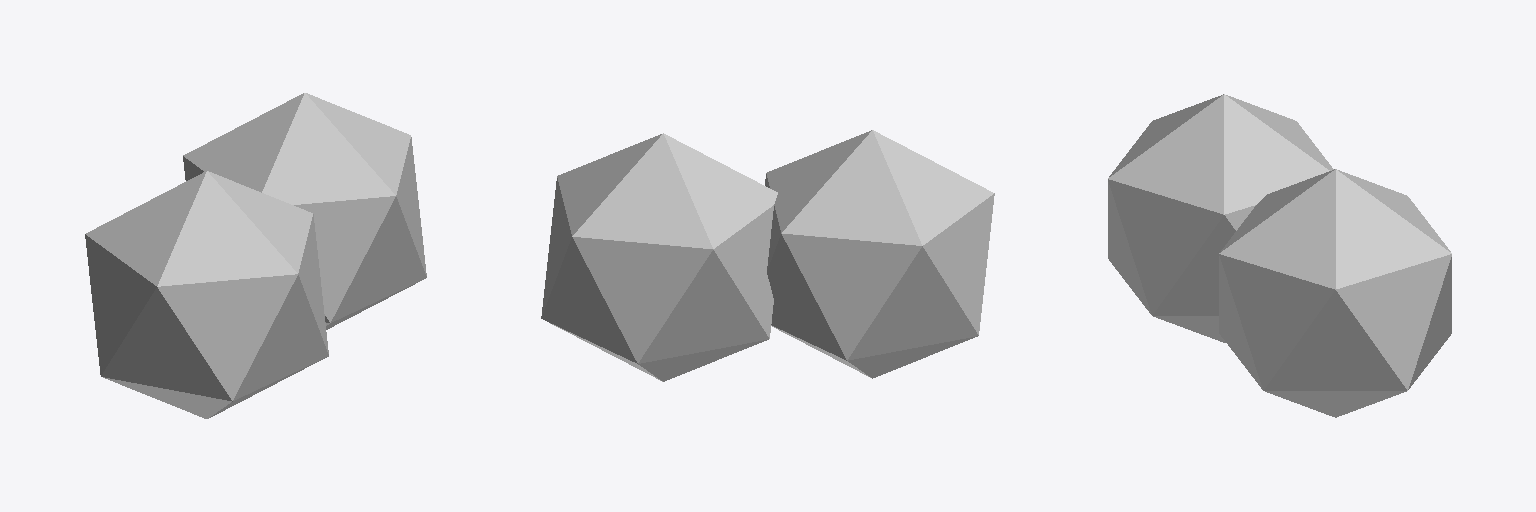
Rendered from eyalSpheres1_intersect.obj.
3 views of the same model, side by side, from view 1: azimuth 30°, elevation 25°; view 2: azimuth 150°, elevation 25°; view 3: azimuth 270°, elevation 25° (orthographic).
Visible parts, largest first — view 1: Icosphere.003, Icosphere.002; view 2: Icosphere.002, Icosphere.003; view 3: Icosphere.002, Icosphere.003.
Boxes of the visible parts, x1=… form: Icosphere.003: x1=85, y1=171, x2=328, y2=418; Icosphere.002: x1=183, y1=93, x2=426, y2=329; Icosphere.002: x1=541, y1=133, x2=777, y2=381; Icosphere.003: x1=765, y1=130, x2=994, y2=378; Icosphere.002: x1=1219, y1=169, x2=1451, y2=417; Icosphere.003: x1=1108, y1=94, x2=1333, y2=342.
Size of the model in its own units: 0.924 by 0.6 by 0.7536.